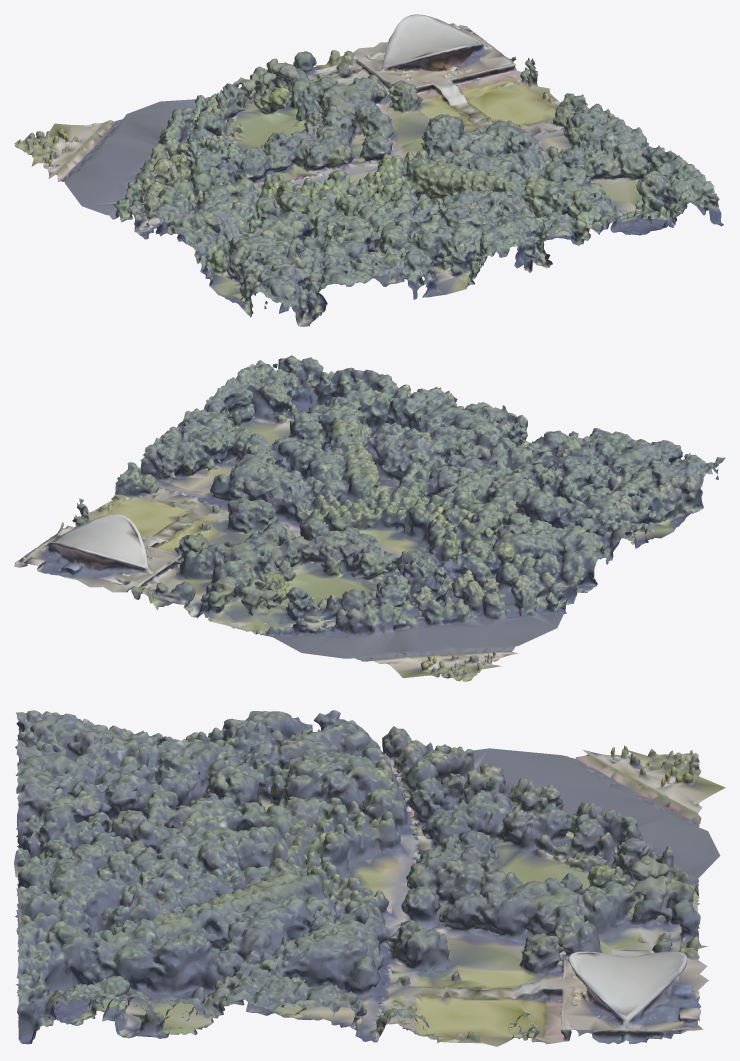
The model's file is surface-detail-3887_58196.glb.
3 views of the same model, one above another, from view 1: azimuth 30°, elevation 25°; view 2: azimuth 150°, elevation 25°; view 3: azimuth 270°, elevation 25° (orthographic). The views are drawn at different scales.
Visible parts, largest first — view 1: world; view 2: world; view 3: world.
Boxes of the visible parts, x1,y1,x2,y2 form: world: (14, 14, 723, 326); world: (14, 355, 725, 681); world: (14, 710, 725, 1046).
Size of the model in its own units: 376 by 33.82 by 378.
